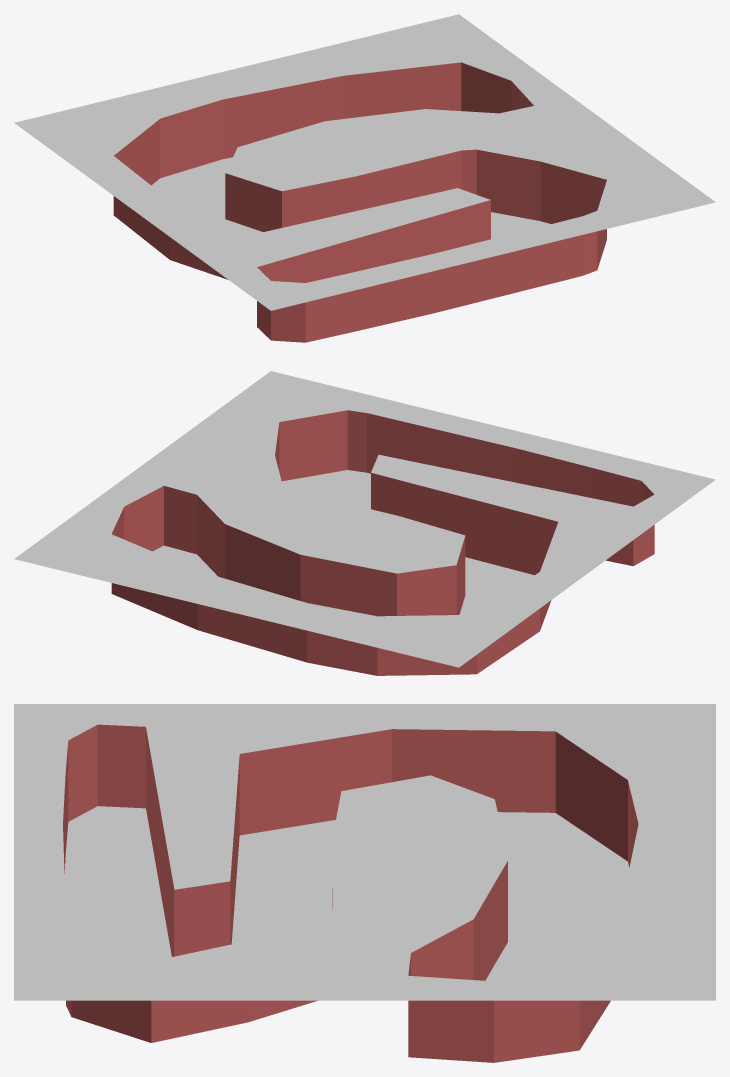
Rendered from Env.fbx.
3 renders of one model, top to bottom at view 1: azimuth 30°, elevation 25°; view 2: azimuth 150°, elevation 25°; view 3: azimuth 270°, elevation 25°, orthographic. The views are drawn at different scales.
Parts seen in each view (by area): view 1: Plane; view 2: Plane; view 3: Plane.
Boxes of the visible parts, x1,y1,x2,y2 form: Plane: (14,14,715,342); Plane: (14,371,715,675); Plane: (14,704,715,1062).
Bounding box in the file's own units: 2547 × 326 × 2547.
